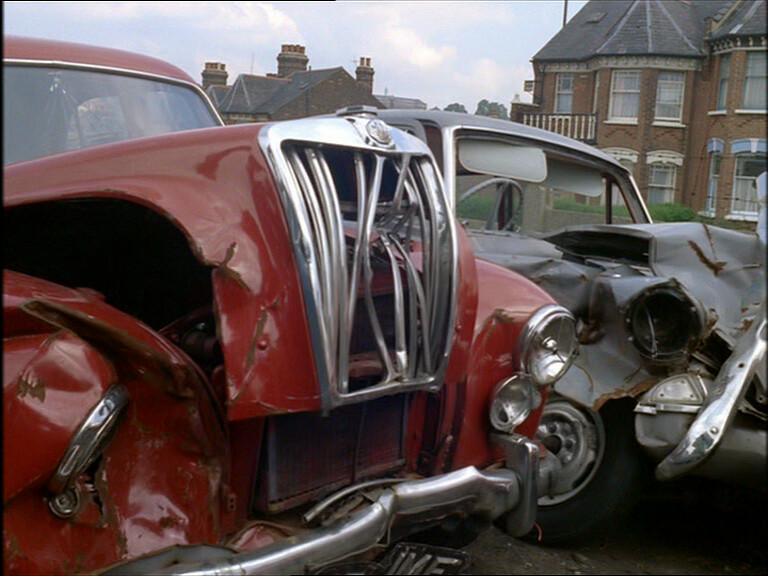Headlight-Damage: (39, 343, 207, 481)
front-bumper-dent: (209, 441, 535, 562)
